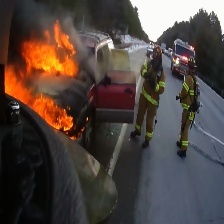fire: (4, 17, 78, 143)
